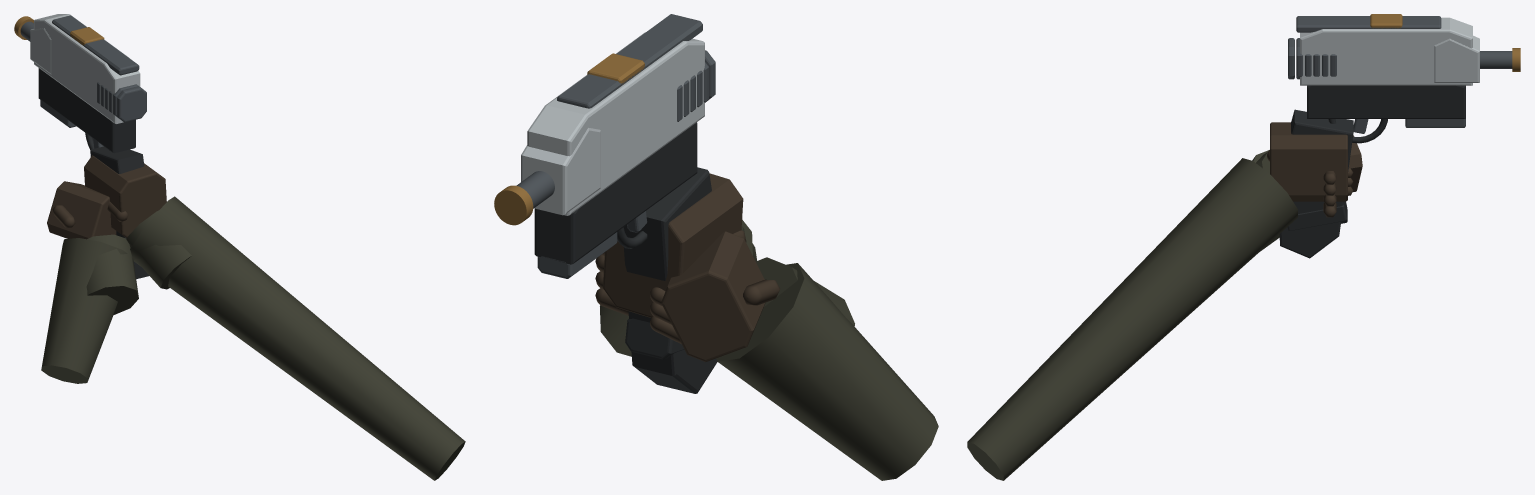
The model's file is deagle.glb.
3 renders of one model, left to right at view 1: azimuth 30°, elevation 25°; view 2: azimuth 150°, elevation 25°; view 3: azimuth 270°, elevation 25°, orthographic. The views are drawn at different scales.
Visible parts, largest first — view 1: deagle; view 2: deagle; view 3: deagle.
Part boxes in pixels (x1,y1,x2,y2): deagle: [14, 14, 465, 480]; deagle: [494, 14, 938, 480]; deagle: [967, 14, 1520, 480].
Size of the model in its own units: 0.5408 by 0.5857 by 0.7868.
